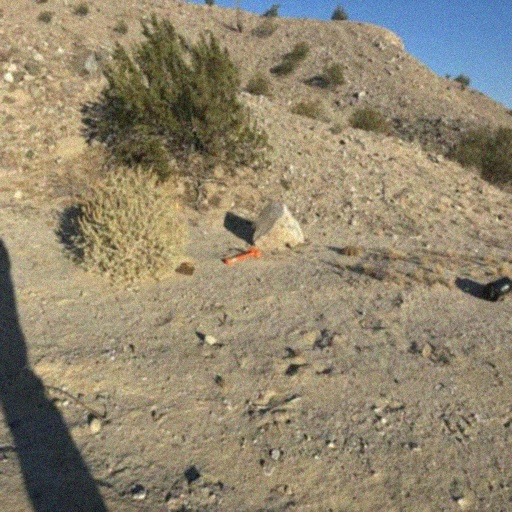mallet: (220, 237, 260, 272)
